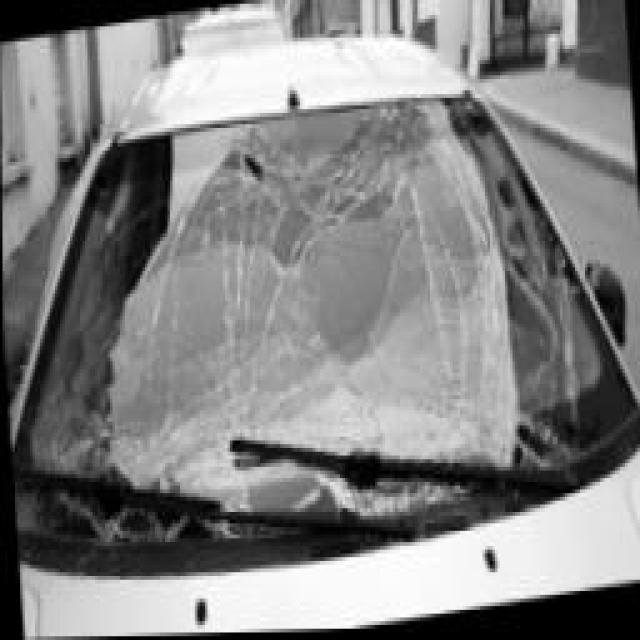Windshield: (0, 75, 595, 479)
